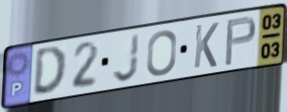2: (70, 40, 101, 91)
D: (31, 44, 69, 98)
J: (110, 31, 142, 85)
K: (192, 21, 221, 71)
O: (145, 28, 179, 78)
P: (223, 14, 259, 69)
